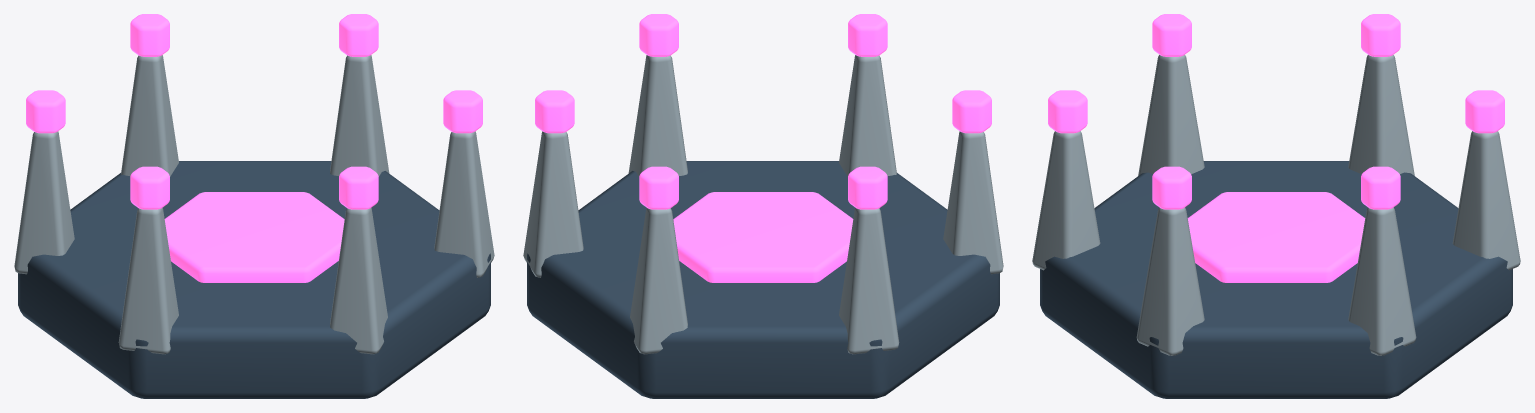
Rendered from enemy_role_boss.fbx.
The picture shows the model from 3 angles, left to right: view 1: azimuth 30°, elevation 25°; view 2: azimuth 150°, elevation 25°; view 3: azimuth 270°, elevation 25°; orthographic projection.
Parts seen in each view (by area): view 1: enemy_role_boss_Geometry; view 2: enemy_role_boss_Geometry; view 3: enemy_role_boss_Geometry.
Boxes of the visible parts, x1=… form: enemy_role_boss_Geometry: x1=14, y1=14, x2=494, y2=398; enemy_role_boss_Geometry: x1=523, y1=14, x2=1003, y2=398; enemy_role_boss_Geometry: x1=1032, y1=14, x2=1520, y2=398.
Bounding box in the file's own units: 0.7572 × 0.475 × 0.8551.
